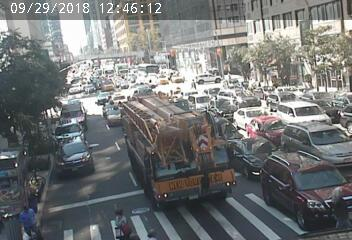car: (131, 104, 207, 179), (271, 152, 323, 201), (298, 127, 339, 156), (235, 137, 267, 162), (61, 146, 94, 168), (288, 101, 318, 125), (249, 119, 282, 138), (235, 105, 268, 122), (59, 100, 83, 118), (140, 61, 165, 77), (273, 90, 294, 107), (158, 85, 179, 100), (56, 127, 81, 139), (243, 96, 263, 111), (197, 70, 217, 81), (220, 86, 240, 96), (105, 103, 118, 118), (186, 94, 201, 105), (114, 92, 126, 101), (97, 93, 110, 101), (136, 87, 145, 98), (102, 80, 114, 88), (71, 82, 82, 90), (85, 84, 92, 90), (129, 98, 136, 104)
